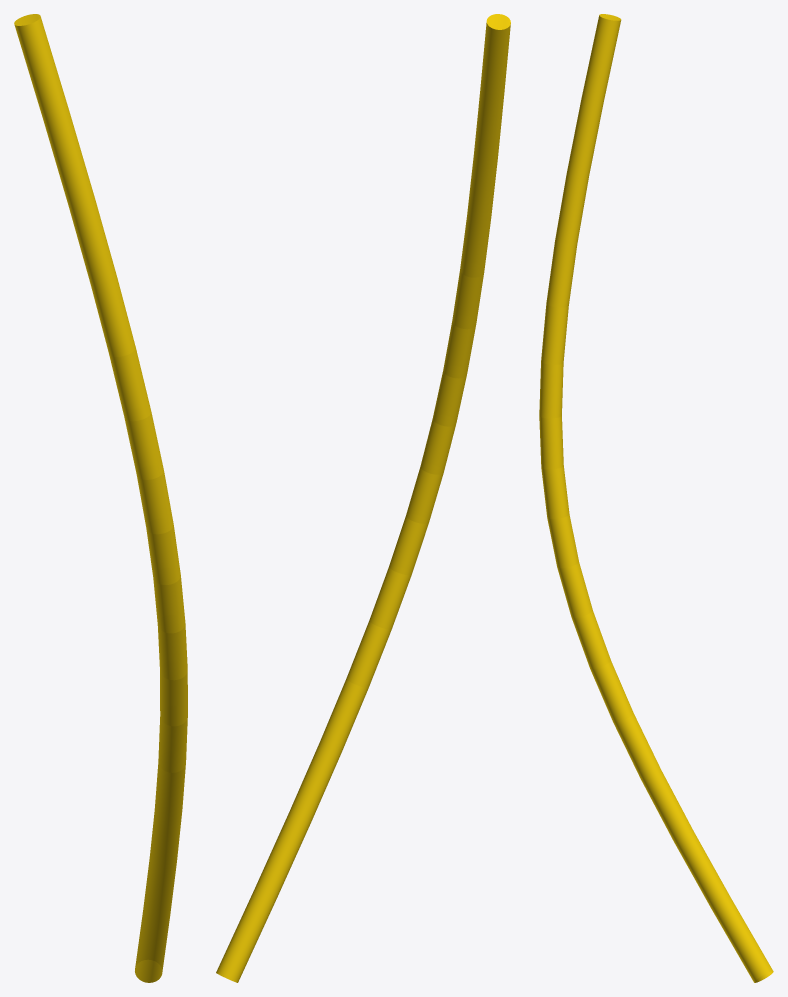
The model's file is Event_421278790_track_53.fbx.
3 views of the same model, side by side, from view 1: azimuth 30°, elevation 25°; view 2: azimuth 150°, elevation 25°; view 3: azimuth 270°, elevation 25° (orthographic). The views are drawn at different scales.
Parts seen in each view (by area): view 1: Model; view 2: Model; view 3: Model.
Boxes of the visible parts, left/top/right/bottom form: Model: left=14, top=14, right=187, bottom=982; Model: left=216, top=14, right=510, bottom=982; Model: left=539, top=14, right=773, bottom=982.
Size of the model in its own units: 0.3975 by 1.72 by 0.4145.
